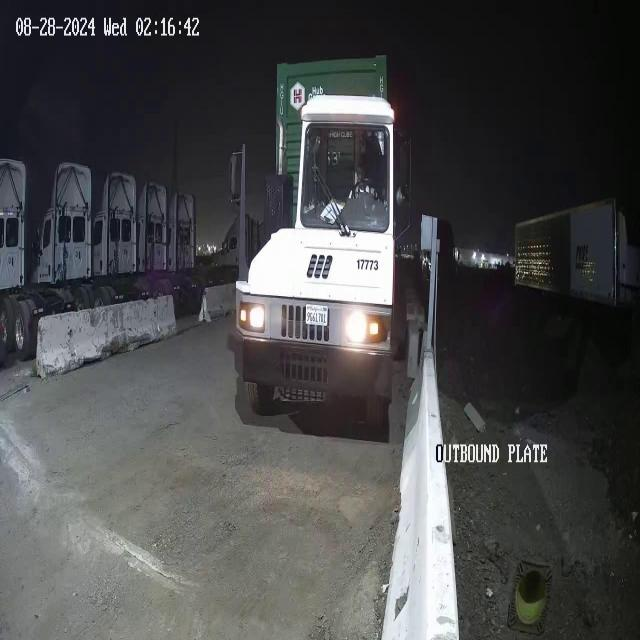TRUCK_OUT: (227, 54, 429, 432)
